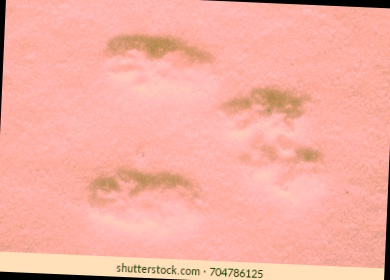ecureuil: (212, 79, 348, 197), (74, 159, 223, 239), (91, 19, 225, 103)
